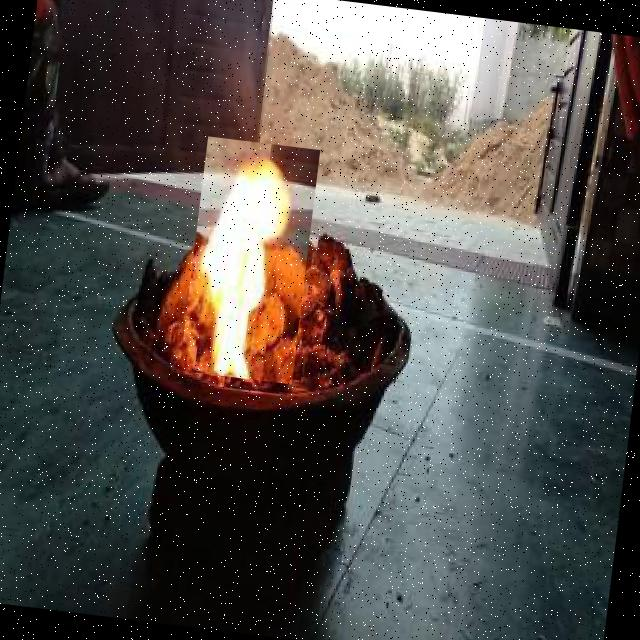fire: (179, 136, 320, 384)
